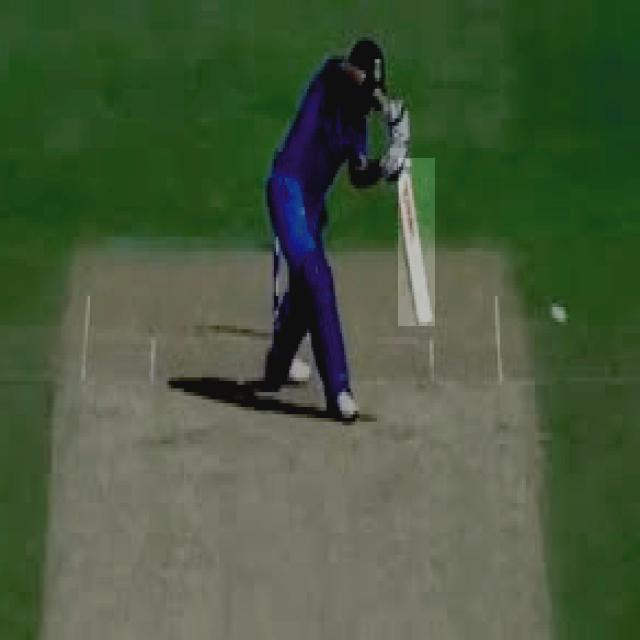bat: (396, 157, 437, 330)
toe: (415, 316, 436, 329)
